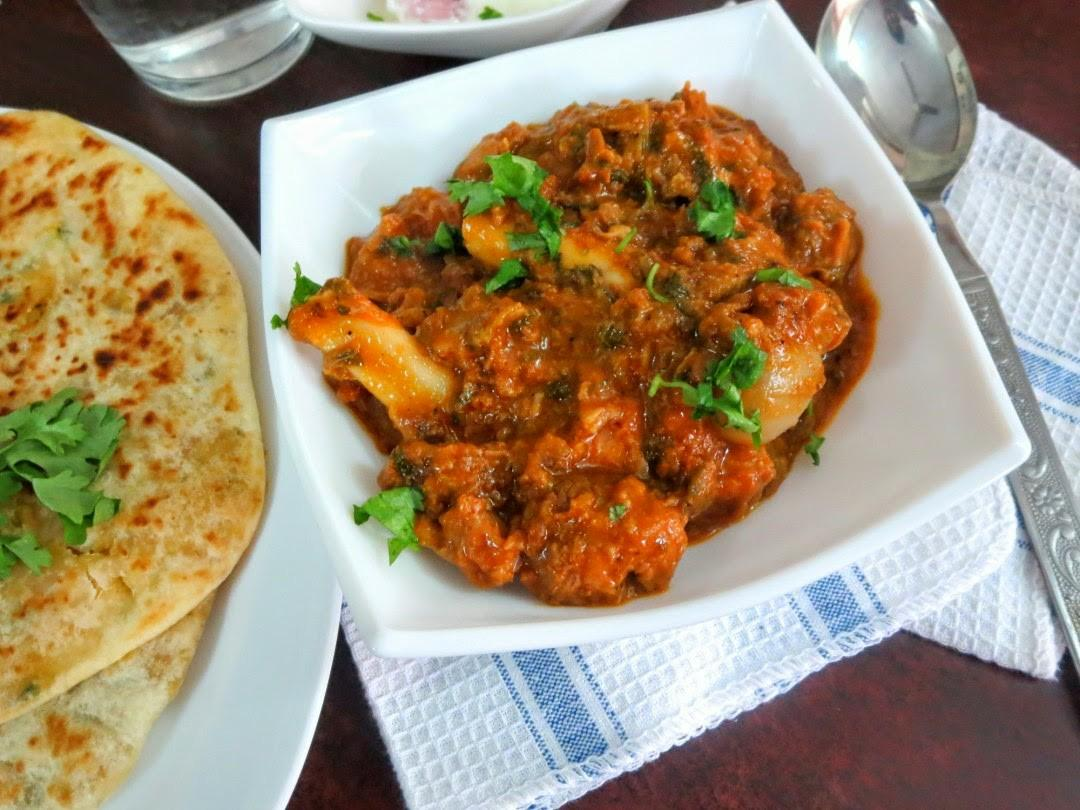MuttonCurry: (286, 88, 878, 601)
